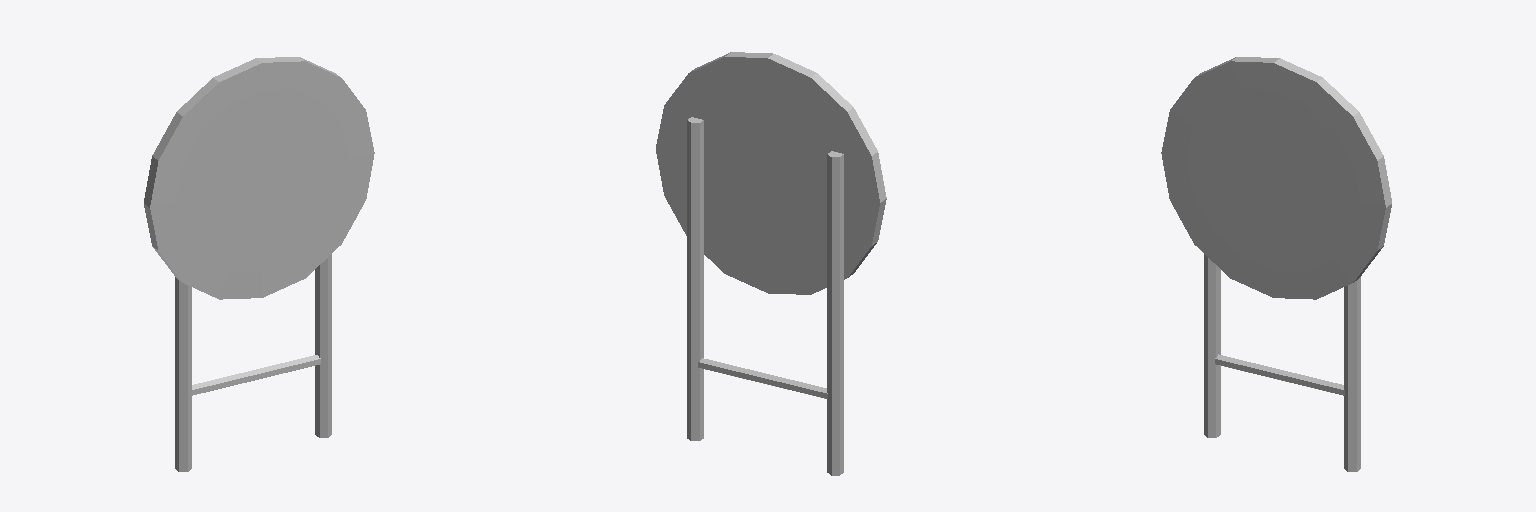
The model's file is target_001.obj.
3 renders of one model, left to right at view 1: azimuth 30°, elevation 25°; view 2: azimuth 150°, elevation 25°; view 3: azimuth 330°, elevation 25°, orthographic.
Parts seen in each view (by area): view 1: target_001; view 2: target_001; view 3: target_001.
Boxes of the visible parts, x1,y1,x2,y2 form: target_001: [144, 57, 374, 471]; target_001: [656, 52, 886, 475]; target_001: [1161, 57, 1391, 471].
Size of the model in its own units: 1.36 by 2.29 by 0.1363.